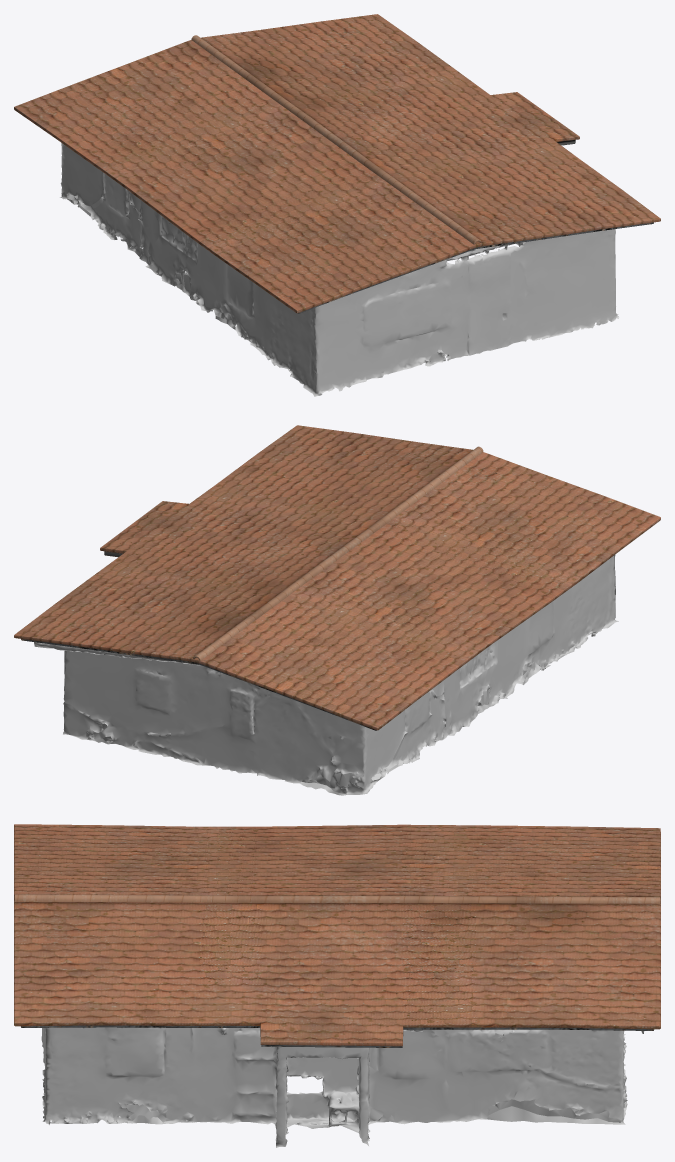
Rendered from MOD_HouseD_House.fbx.
3 views of the same model, one above another, from view 1: azimuth 30°, elevation 25°; view 2: azimuth 150°, elevation 25°; view 3: azimuth 270°, elevation 25° (orthographic). The views are drawn at different scales.
Parts seen in each view (by area): view 1: MOD_HouseD_Roof, MOD_HouseD_House; view 2: MOD_HouseD_Roof, MOD_HouseD_House; view 3: MOD_HouseD_Roof, MOD_HouseD_House.
Part boxes in pixels (<box>): MOD_HouseD_Roof: <box>14,14,660,313</box>; MOD_HouseD_House: <box>60,143,618,396</box>; MOD_HouseD_Roof: <box>14,425,660,730</box>; MOD_HouseD_House: <box>34,555,618,795</box>; MOD_HouseD_Roof: <box>14,824,660,1047</box>; MOD_HouseD_House: <box>41,1027,644,1147</box>.
Bounding box in the file's own units: 1027 × 325 × 1290.
